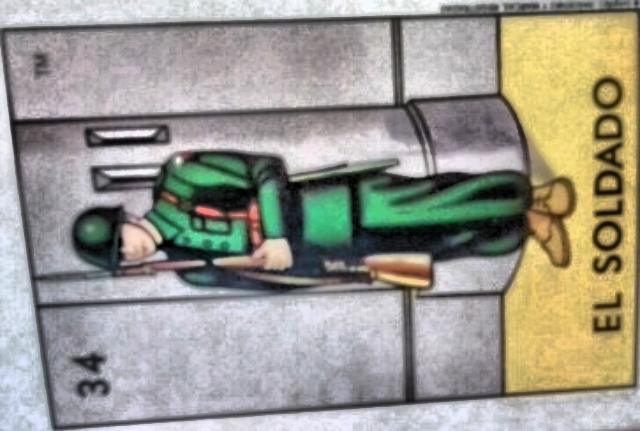El Soldado: (2, 10, 637, 430)
